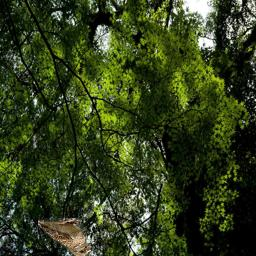Sparrow: (39, 218, 92, 256)
